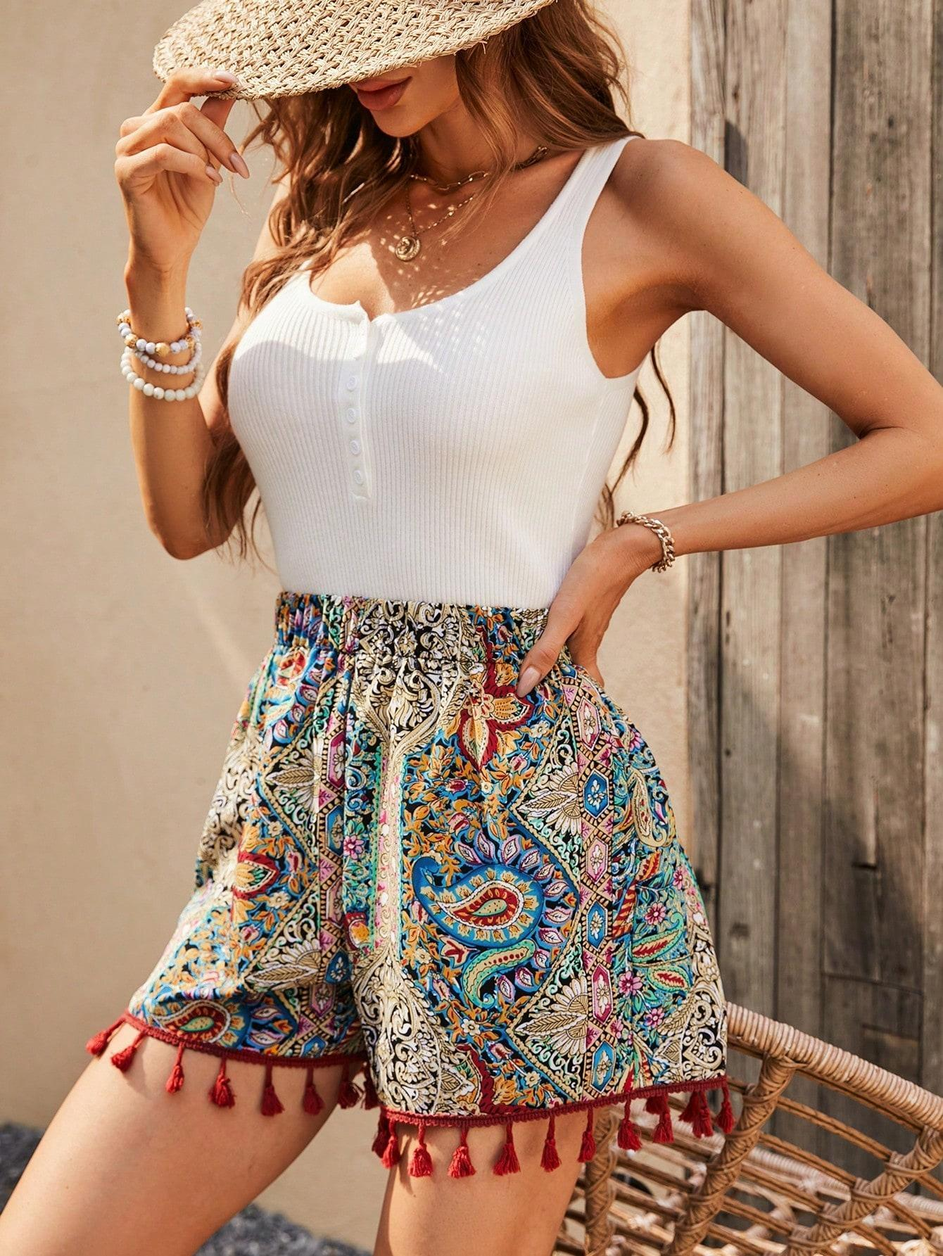Shorts: (104, 586, 740, 1183)
vest: (217, 122, 658, 624)
